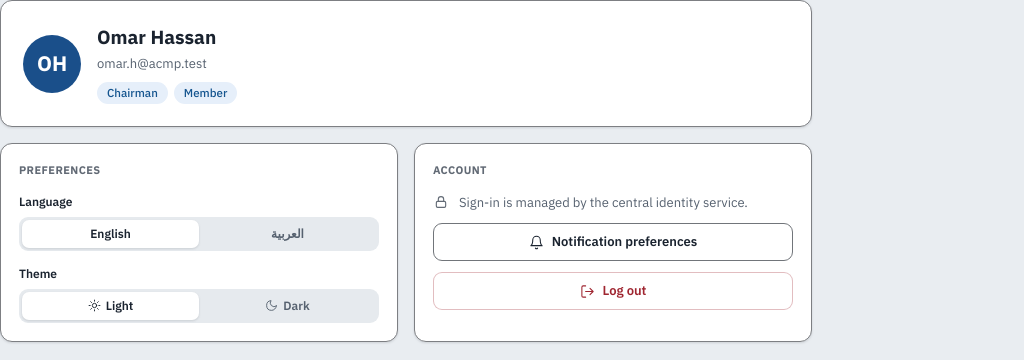
it: ProfilePage — preferences › switches the interface language from the Language control
The image size is (1024, 360).
Expected: the element named "Language" is shown, [19, 216, 379, 250]
Click the button "العربية" at (288, 234), box [199, 220, 376, 248]
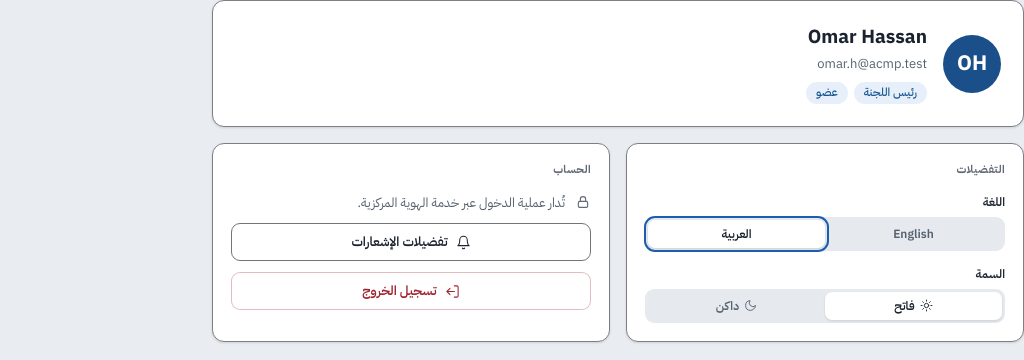
Now the heading "التفضيلات" is shown, box [956, 161, 1005, 178]
